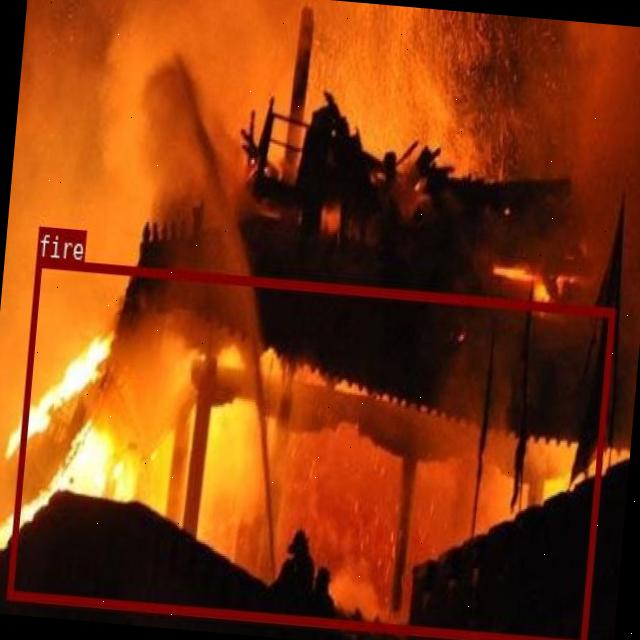fire: (5, 256, 614, 640)
